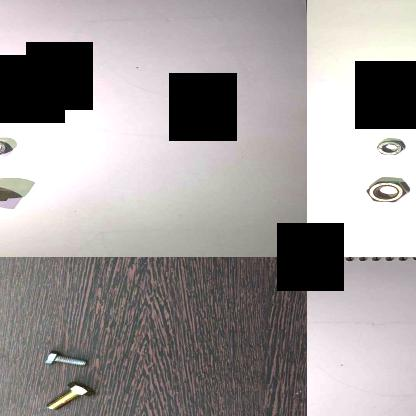Bolts: (38, 378, 98, 414), (39, 346, 97, 367)
NUTS: (358, 174, 410, 206), (371, 136, 409, 156), (0, 181, 18, 201), (0, 138, 17, 155)
